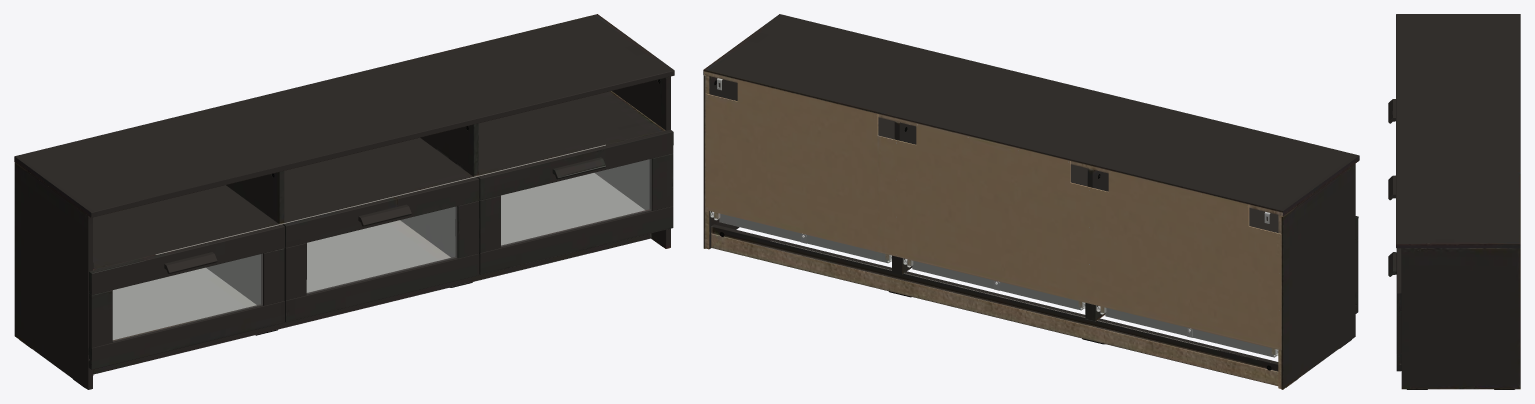
3 renders of one model, left to right at view 1: azimuth 30°, elevation 25°; view 2: azimuth 150°, elevation 25°; view 3: azimuth 270°, elevation 25°, orthographic. The views are drawn at different scales.
Visible parts, largest first — view 1: 70409873-BRIMNES001; view 2: 70409873-BRIMNES001; view 3: 70409873-BRIMNES001.
Boxes of the visible parts, x1,y1,x2,y2 form: 70409873-BRIMNES001: (14, 14, 674, 389); 70409873-BRIMNES001: (703, 14, 1359, 389); 70409873-BRIMNES001: (1388, 14, 1520, 389).
Size of the model in its own units: 1.8 by 0.534 by 0.4379.
Materials: 2 (2 with a texture image).
